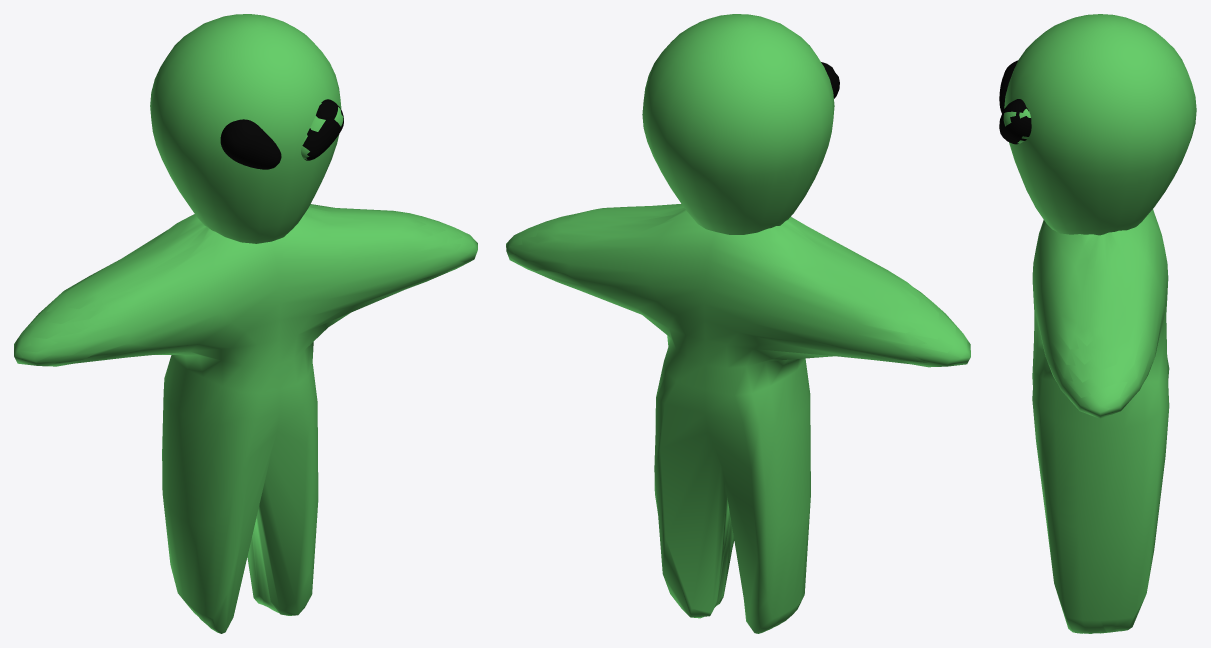
File: AlienPrototype2.fbx
3 views of the same model, side by side, from view 1: azimuth 30°, elevation 25°; view 2: azimuth 150°, elevation 25°; view 3: azimuth 270°, elevation 25° (orthographic).
Visible parts, largest first — view 1: pSphere6; view 2: pSphere6; view 3: pSphere6.
Part boxes in pixels (box(x1,y1,x2,y2)): pSphere6: box(14, 14, 477, 633); pSphere6: box(506, 14, 970, 633); pSphere6: box(999, 14, 1196, 633).
Size of the model in its own units: 7.88 by 9.66 by 2.91.
